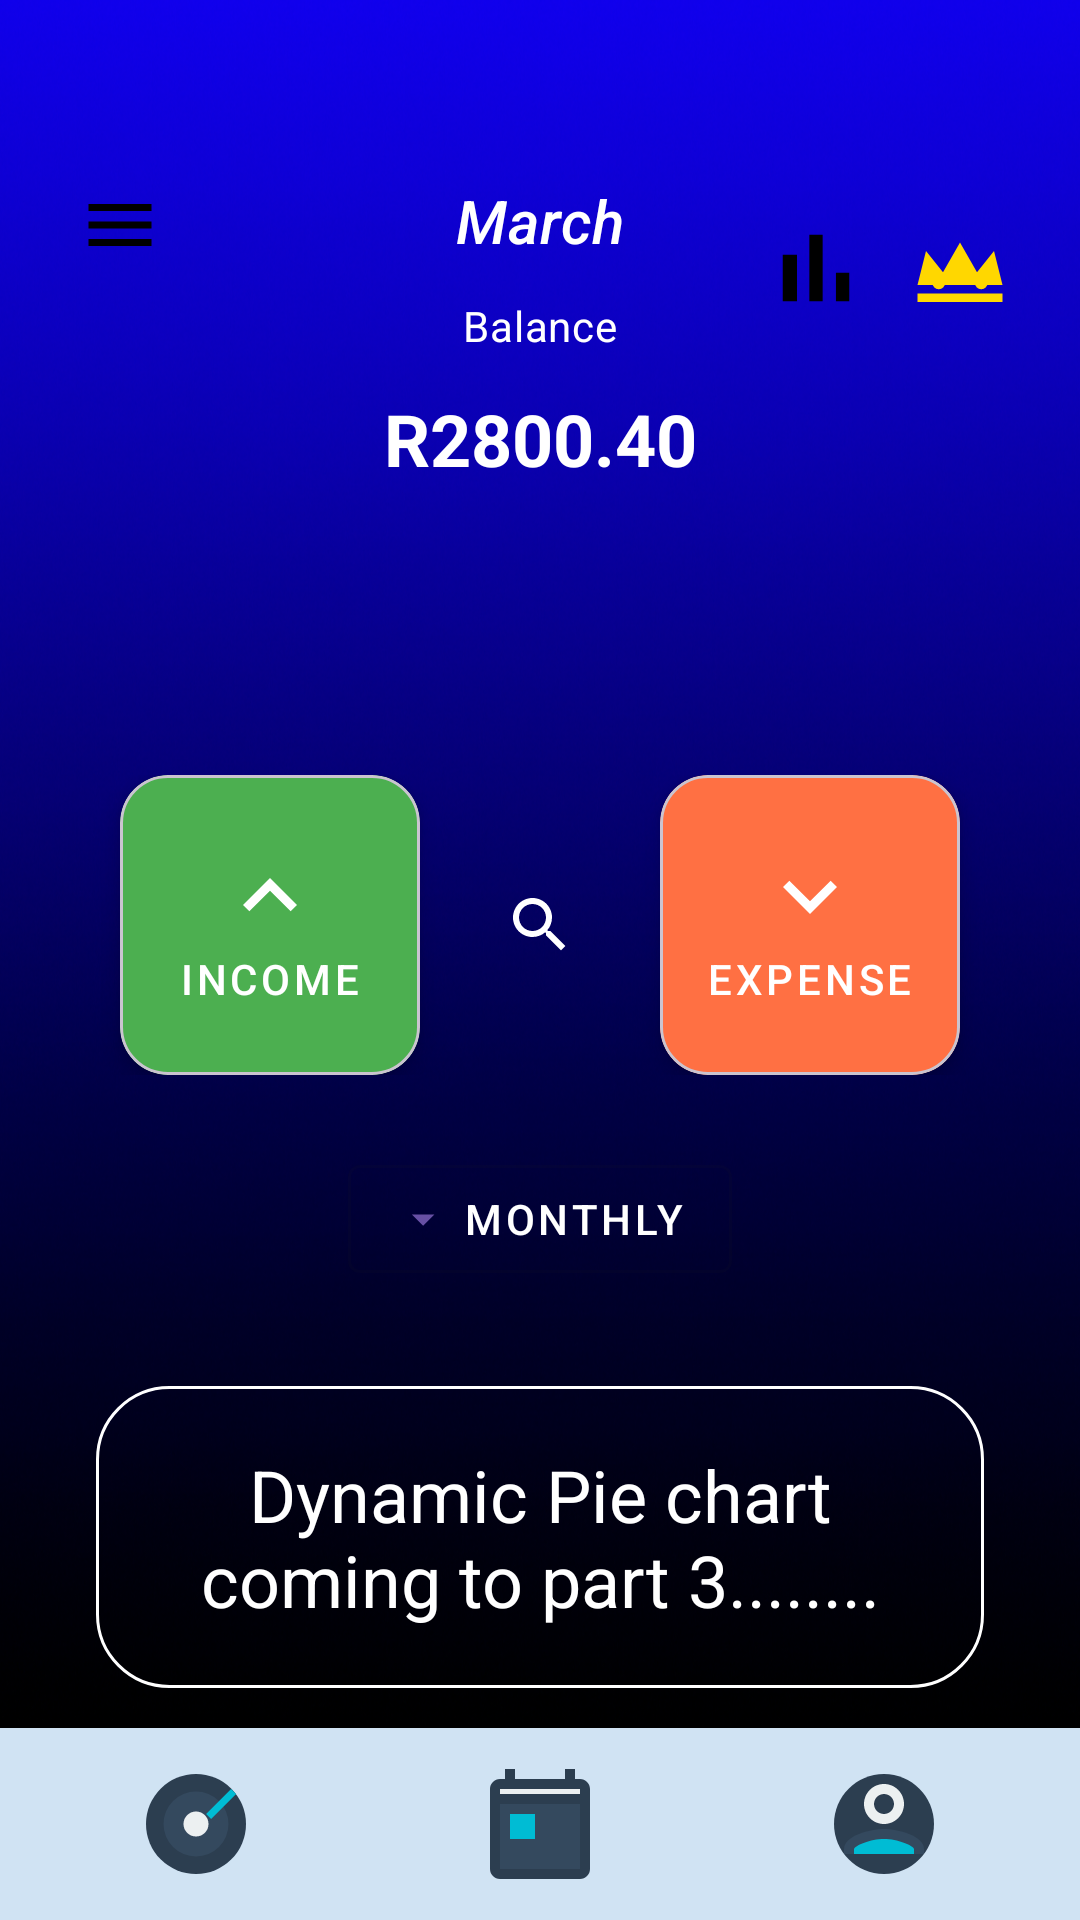

Screen size 1080*1920. Icon name, then its center in pixels as point (x, y):
arrow down: point (810, 897)
arrow up: point (270, 894)
Calendar: point (540, 1824)
Goals: point (196, 1824)
Menu: point (120, 225)
Premium: point (960, 272)
Profile: point (884, 1824)
